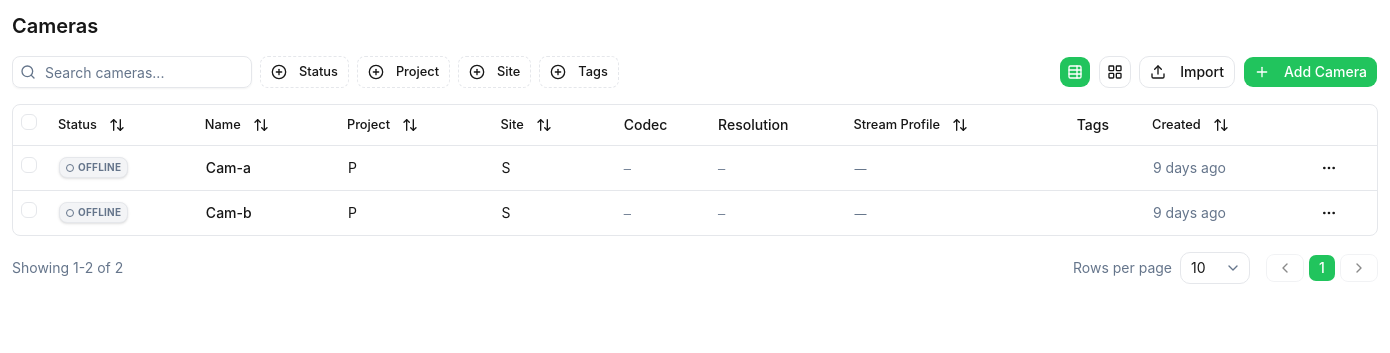
Scenario: TenantCamerasPage — selection (D-05) › header checkbox toggles all-page selection (both rows become checked)
Expected: the text "Cam-a" is shown, [206,158,251,176]
Expected: the text "Cam-b" is shown, [206,204,252,220]
Click the checkbox named "Select all cameras on this page" at coordinates (29, 122), box [21,114,37,130]
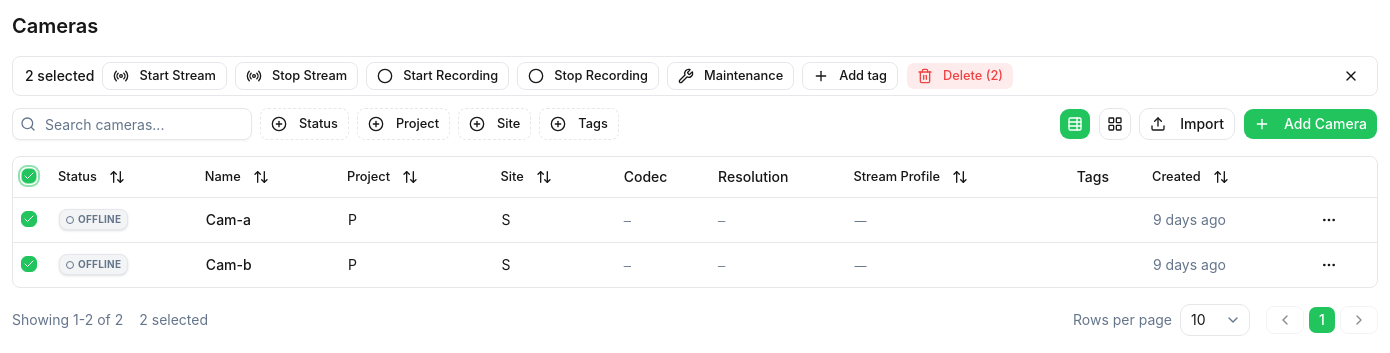
Result: the 1st text "2 selected" is shown at [25,66,94,86]
